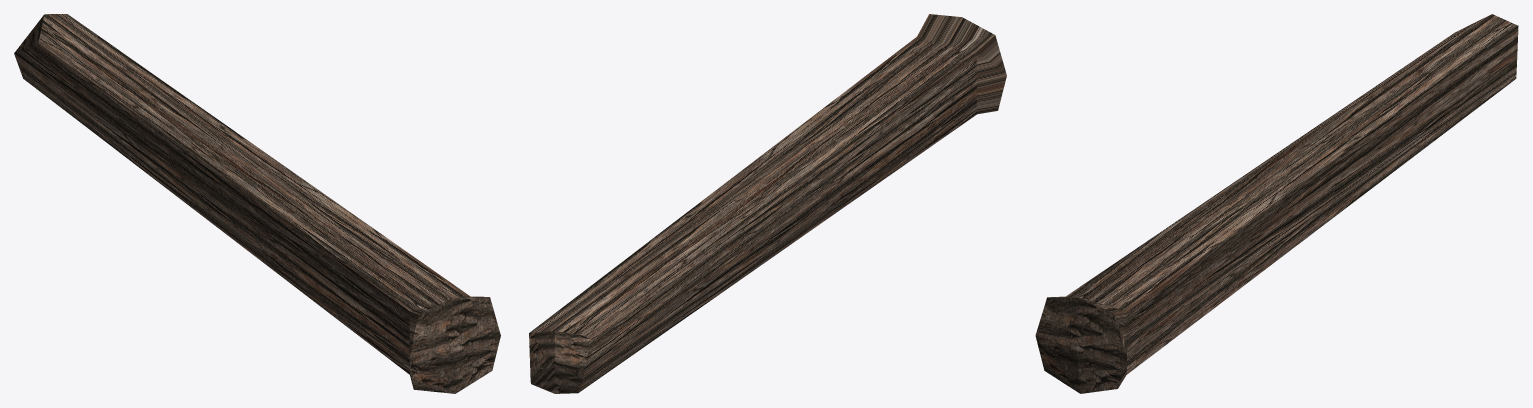
Rendered from log.glb.
The picture shows the model from 3 angles, left to right: view 1: azimuth 30°, elevation 25°; view 2: azimuth 150°, elevation 25°; view 3: azimuth 330°, elevation 25°; orthographic projection.
Parts seen in each view (by area): view 1: Cube; view 2: Cube; view 3: Cube.
Boxes of the visible parts, x1,y1,x2,y2 form: Cube: (14, 14, 500, 393); Cube: (529, 14, 1006, 393); Cube: (1035, 14, 1518, 393).
Bounding box in the file's own units: 3 × 3 × 23.93.
Materials: 1 (1 with a texture image).
